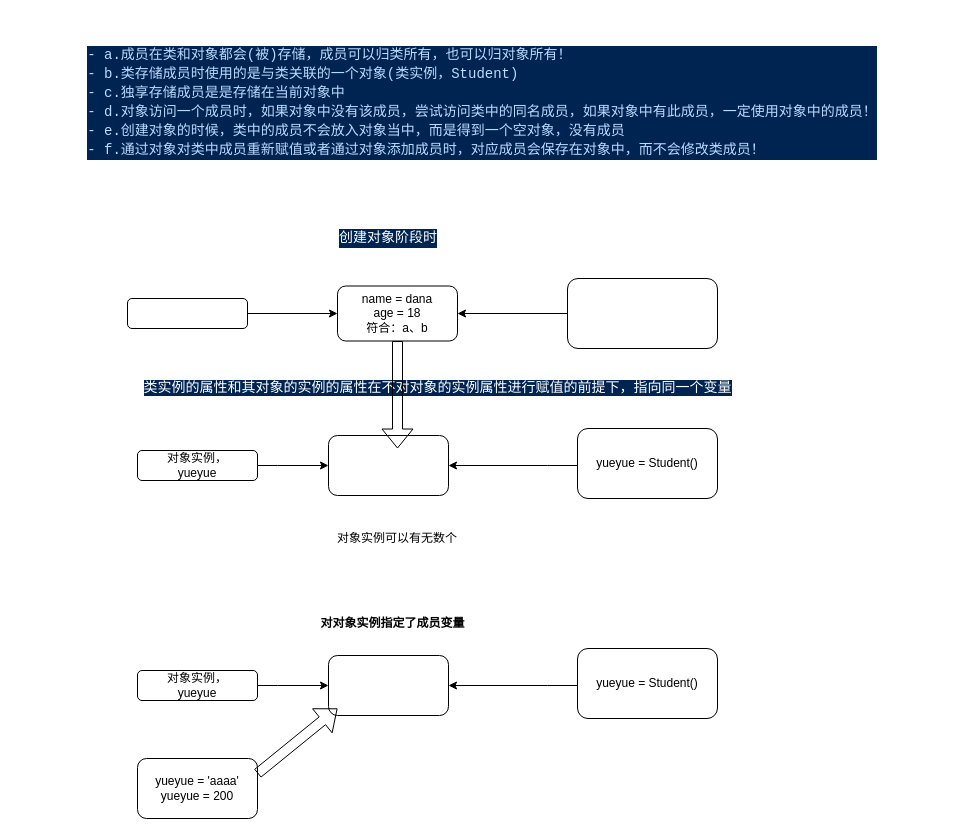
Some shapes in this 964 by 836 pixel diagram are drawn without their labels. The shapes that lost their labels are listed below. From the top down, each one's centre as x and y in pixels, then its label:
At point (187, 313): "Student类实例 有且只有一份".
At point (642, 313): "class Studnet(): name = 'dana' age = 18".
At point (388, 685): "name = aaaa age = 200 符合：a、c、f、 e".
